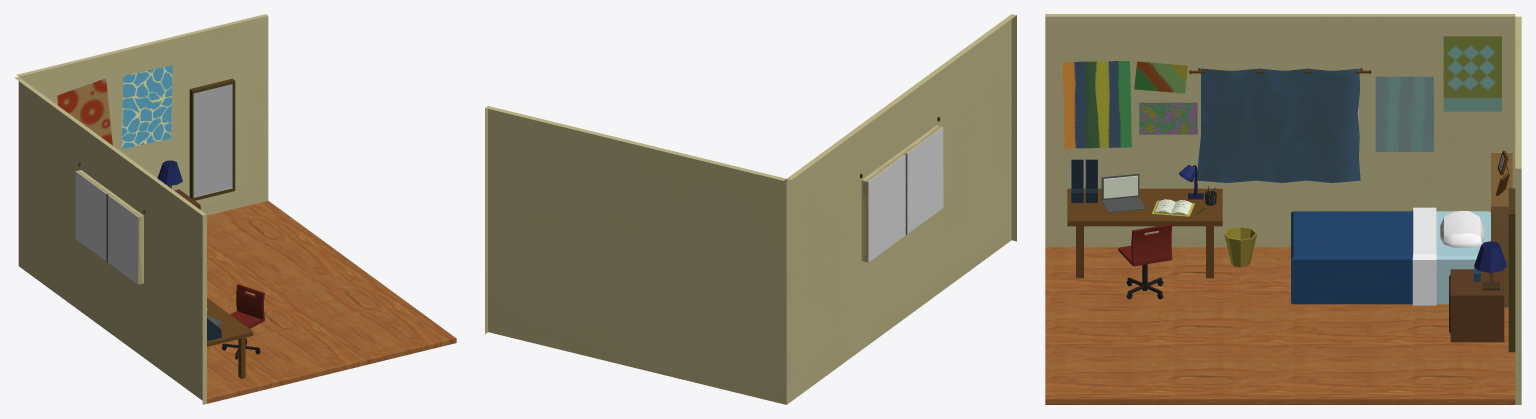
The model's file is Sims_All.fbx.
3 renders of one model, left to right at view 1: azimuth 30°, elevation 25°; view 2: azimuth 150°, elevation 25°; view 3: azimuth 270°, elevation 25°, orthographic. The views are drawn at different scales.
Parts seen in each view (by area): view 1: Wall_Window, Ground, Wall, Mirror, Abstrtact_06, Abstrtact_07, Chair_Seat, Table, Lamp_Head; view 2: Wall, Wall_Window; view 3: Ground, Wall_Window, CurtainSheet_03, Bed, Abstrtact_01, Abstrtact_05, Abstrtact_04, Table, BedsideTable, Wall, Abstrtact_02, BedFrame (+12 smaller).
Boxes of the visible parts, box(x1,y1,x2,y2) form: Wall_Window: box(14, 77, 206, 404); Ground: box(207, 200, 456, 403); Wall: box(16, 14, 268, 215); Mirror: box(189, 78, 235, 200); Abstrtact_06: box(121, 65, 172, 148); Abstrtact_07: box(57, 78, 112, 145); Chair_Seat: box(230, 284, 264, 328); Table: box(207, 298, 253, 346); Lamp_Head: box(157, 160, 182, 185); Wall: box(485, 106, 786, 404); Wall_Window: box(786, 14, 1016, 404); Ground: box(1045, 247, 1515, 404); Wall_Window: box(1045, 14, 1515, 247); CurtainSheet_03: box(1197, 68, 1360, 182); Bed: box(1291, 207, 1490, 305); Abstrtact_01: box(1062, 61, 1131, 148); Abstrtact_05: box(1443, 36, 1501, 111); Abstrtact_04: box(1375, 76, 1433, 151); Table: box(1067, 188, 1222, 226); BedsideTable: box(1449, 269, 1504, 342); Wall: box(1515, 16, 1521, 404); Abstrtact_02: box(1139, 102, 1197, 134); BedFrame: box(1491, 153, 1512, 307).
Bounding box in the file's own units: 44.75 × 31.72 × 57.84.
